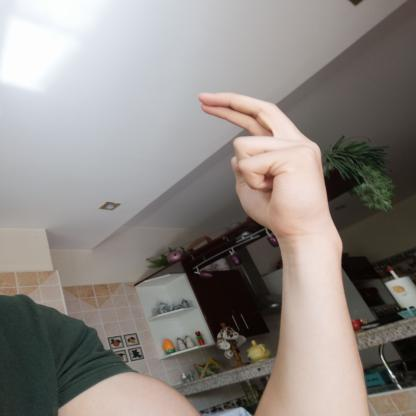ZAY: (185, 86, 343, 245)
